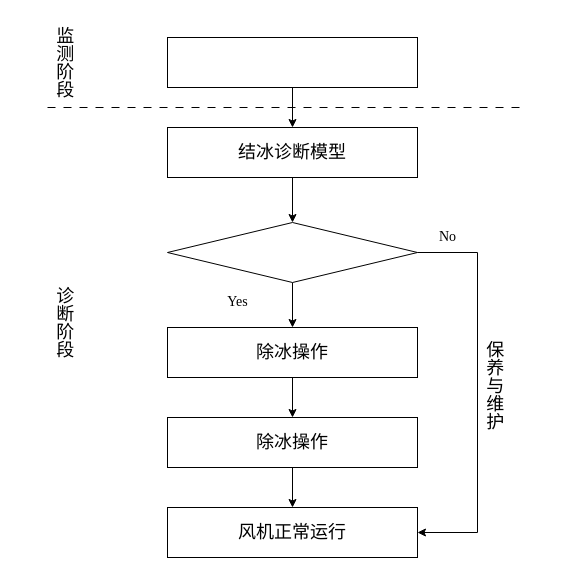
This 564x575 diagram has some shape labels left out. The shapes that lost their labels are listed below. From the top down, each one's box as (x1, y1, x2, y2) in pixels, then its label:
(166, 36, 418, 88): SCADA系统数据采集与监测
(166, 222, 418, 282): 叶片是否结冰
